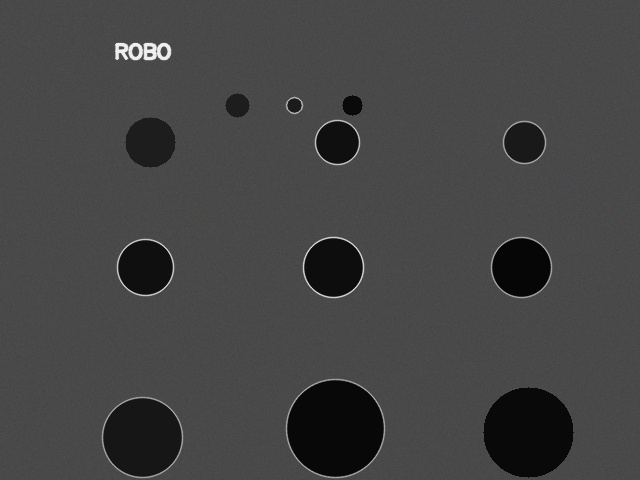hole: (286, 379, 384, 477), (483, 387, 573, 477), (102, 397, 182, 477), (303, 237, 363, 297), (491, 237, 551, 297), (117, 239, 173, 295), (125, 117, 175, 167), (315, 120, 359, 164), (503, 121, 545, 163), (225, 93, 249, 117), (342, 95, 362, 115), (286, 97, 302, 113)
